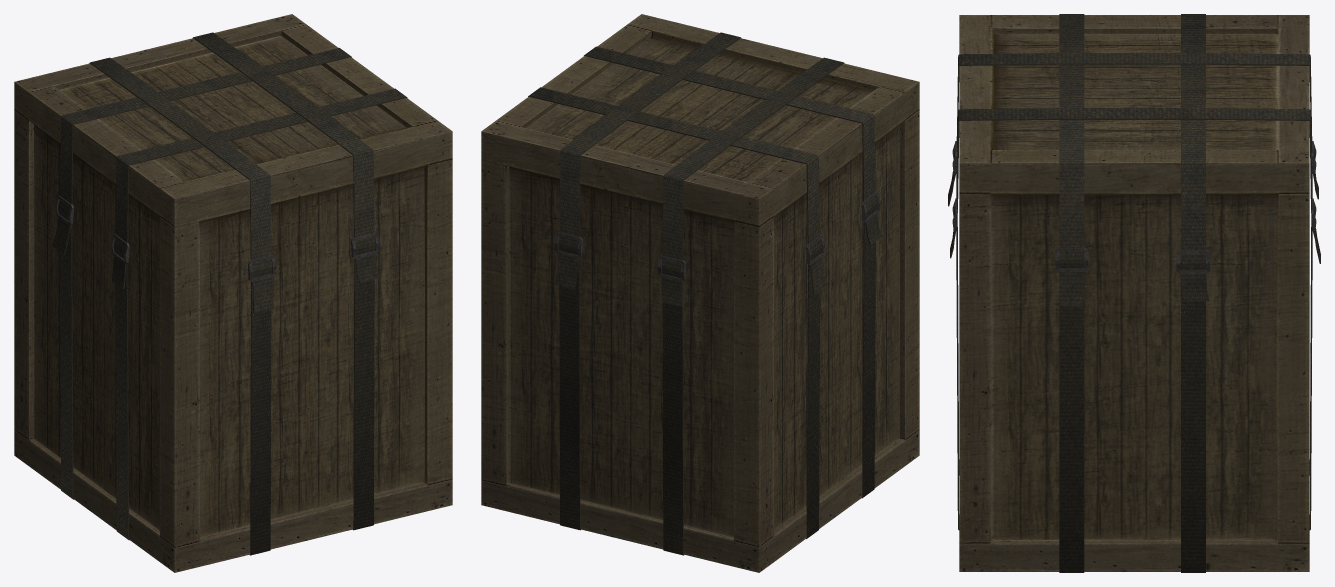
Rendered from wooden_crate_hx_3.obj.
The picture shows the model from 3 angles, left to right: view 1: azimuth 30°, elevation 25°; view 2: azimuth 150°, elevation 25°; view 3: azimuth 270°, elevation 25°; orthographic projection. The views are drawn at different scales.
Parts seen in each view (by area): view 1: wooden_crate_hx_3; view 2: wooden_crate_hx_3; view 3: wooden_crate_hx_3.
Part boxes in pixels (left/top/right/bottom): wooden_crate_hx_3: left=14, top=14, right=452, bottom=572; wooden_crate_hx_3: left=481, top=14, right=919, bottom=572; wooden_crate_hx_3: left=948, top=14, right=1320, bottom=572.
Size of the model in its own units: 1.49 by 1.82 by 1.49.
